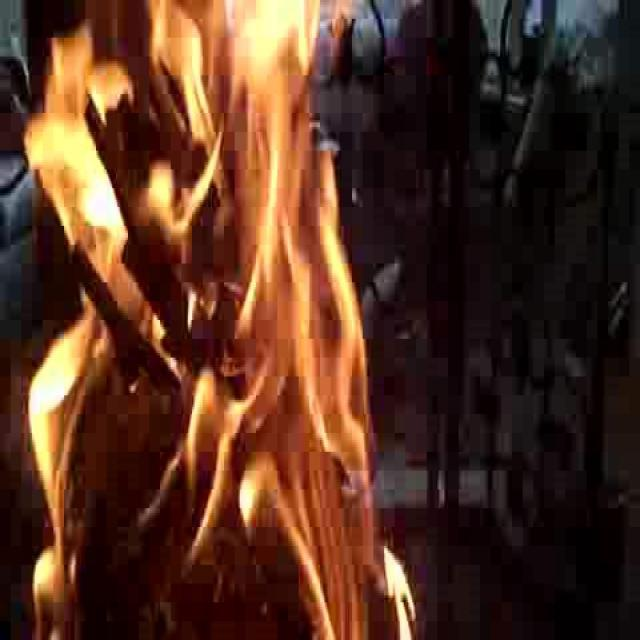Fire: (46, 11, 382, 626)
